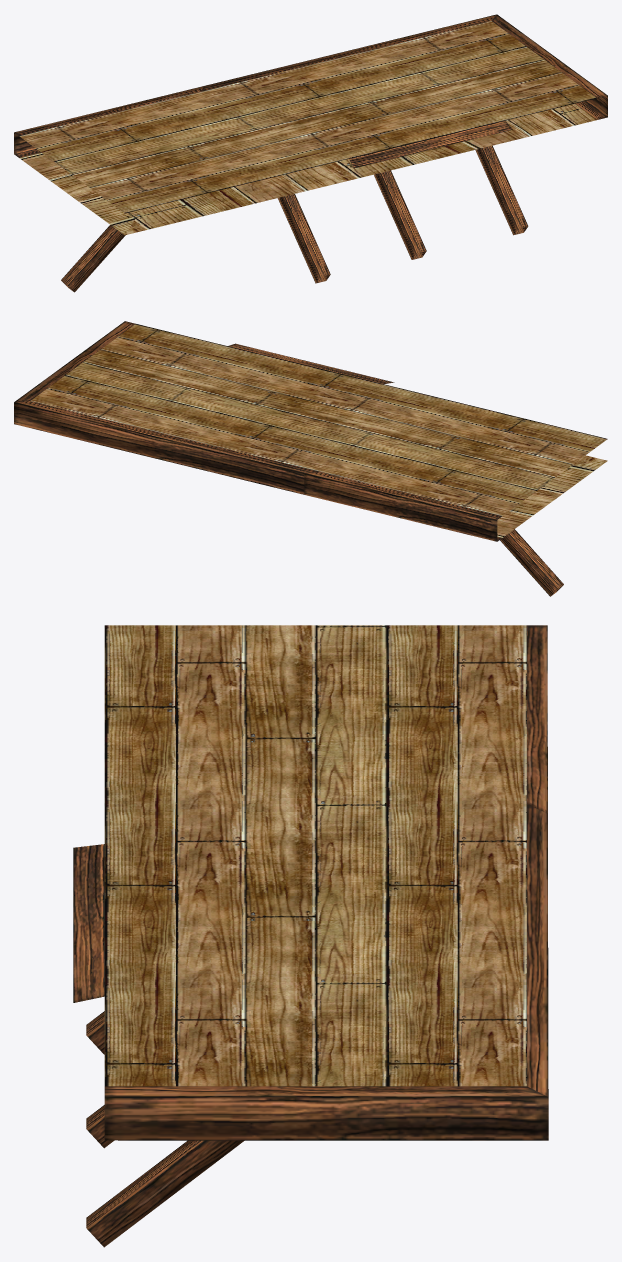
The model's file is LAKETOWN_WAREHOUSE3_PS_WH3_PLATFORM394848__GX.fbx.
3 views of the same model, one above another, from view 1: azimuth 30°, elevation 25°; view 2: azimuth 150°, elevation 25°; view 3: azimuth 270°, elevation 25° (orthographic). The views are drawn at different scales.
Parts seen in each view (by area): view 1: LAKETOWN_WAREHOUSE3_PS_WH3_PLATFORM394848__GX; view 2: LAKETOWN_WAREHOUSE3_PS_WH3_PLATFORM394848__GX; view 3: LAKETOWN_WAREHOUSE3_PS_WH3_PLATFORM394848__GX.
Boxes of the visible parts, <box> form: LAKETOWN_WAREHOUSE3_PS_WH3_PLATFORM394848__GX: <box>14,14,607,292</box>; LAKETOWN_WAREHOUSE3_PS_WH3_PLATFORM394848__GX: <box>14,321,607,596</box>; LAKETOWN_WAREHOUSE3_PS_WH3_PLATFORM394848__GX: <box>73,625,548,1247</box>.
Size of the model in its own units: 80394 by 18252 by 33742.
3 materials, 3 textured.
